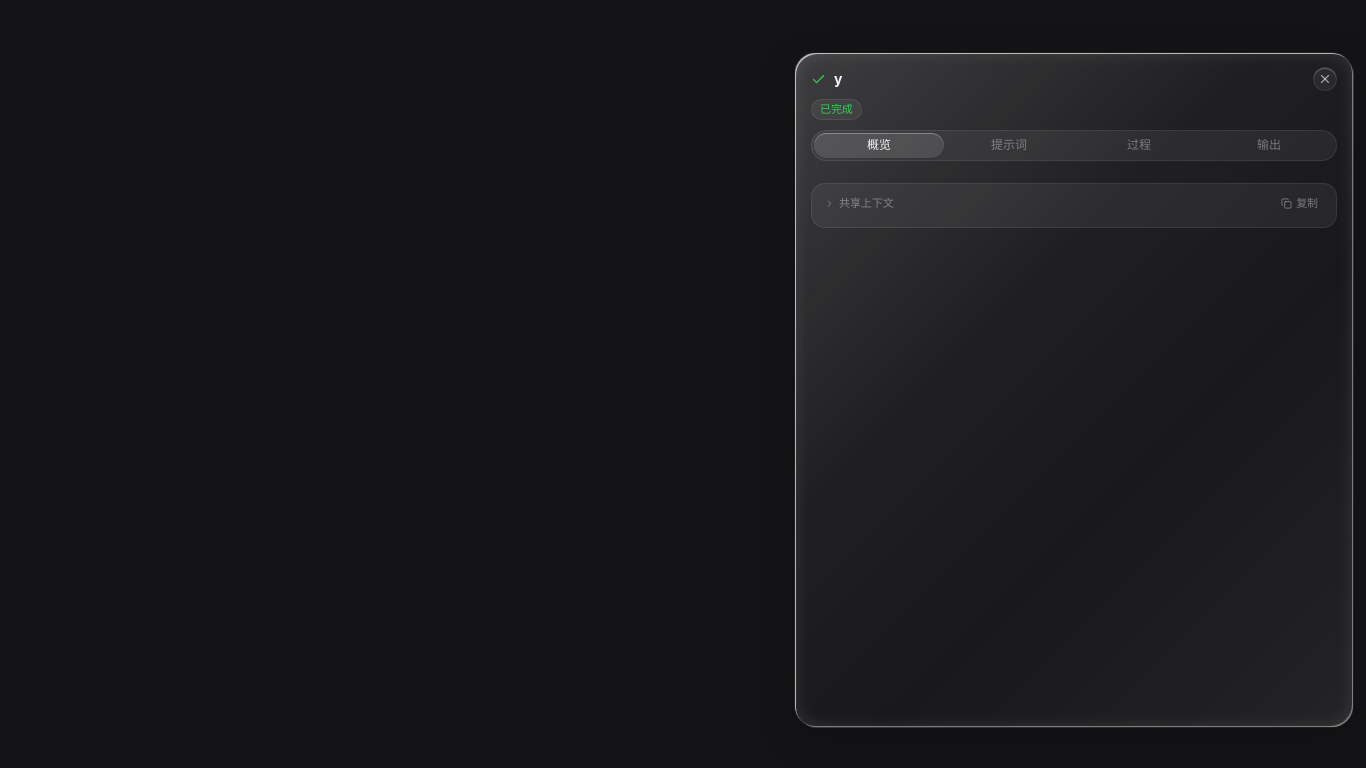
Test: SubagentSheet › explicit context prop is used when passed (stream entry point)
This screenshot has width=1366, height=768.
Step 1. Click the button "共享上下文" → (859, 203), box [824,196,894,211]
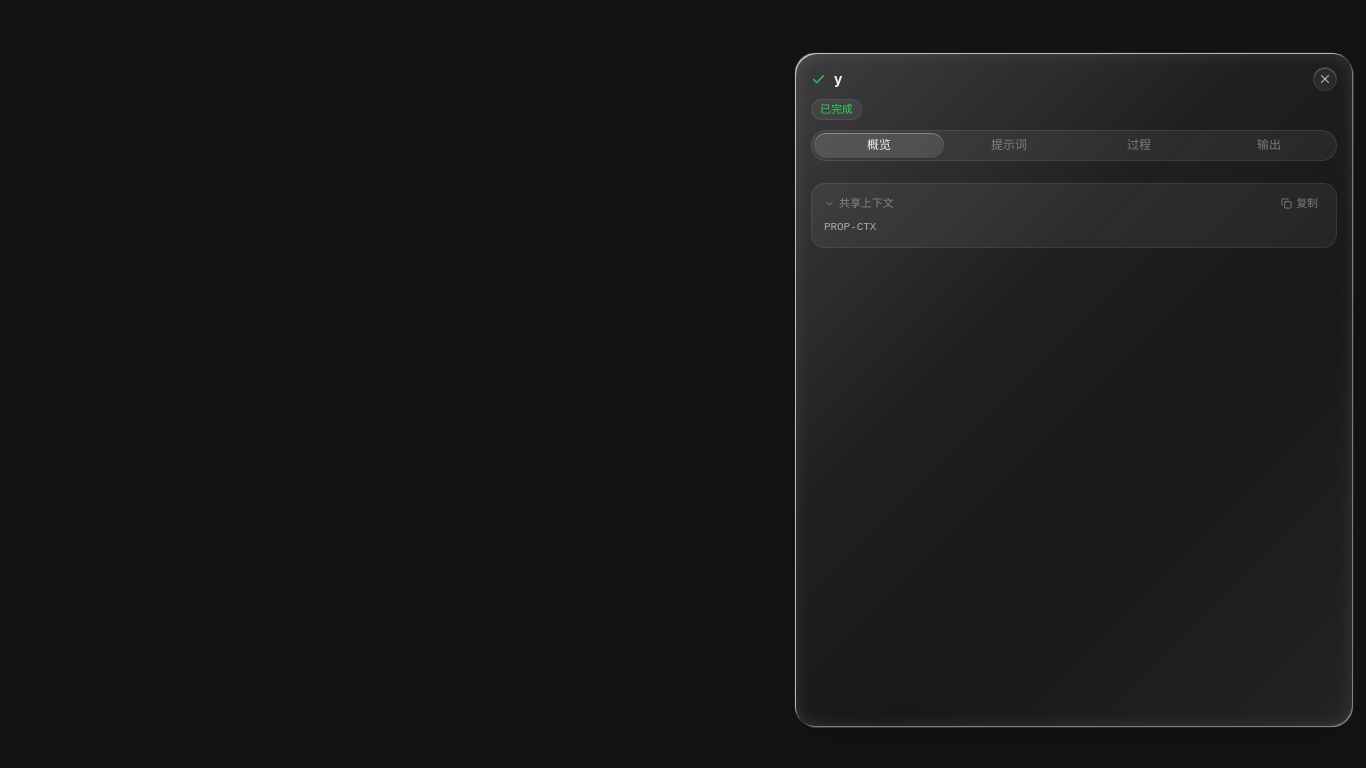
Expected: the text "PROP-CTX" is shown, [824,221,876,233]
